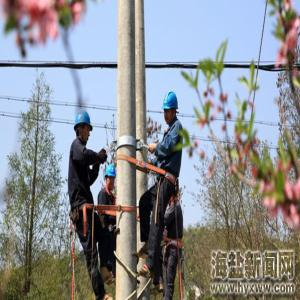blue: (73, 111, 94, 145), (163, 91, 179, 125), (104, 165, 118, 192)
